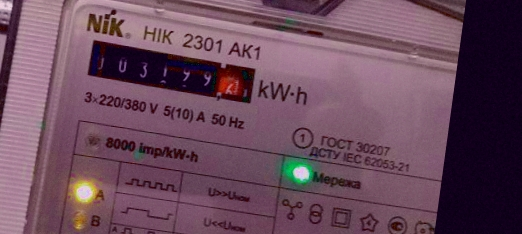0: (91, 49, 106, 72), (114, 52, 128, 74)
1: (157, 58, 170, 78)
3: (135, 58, 149, 79)
6: (223, 79, 235, 96)
9: (178, 62, 192, 83), (199, 67, 212, 87)
screen: (77, 34, 265, 112)
